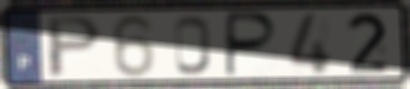0: (173, 14, 213, 76)
2: (346, 11, 390, 75)
4: (286, 10, 333, 76)
6: (112, 13, 158, 80)
P: (223, 10, 280, 80), (46, 14, 105, 80)
